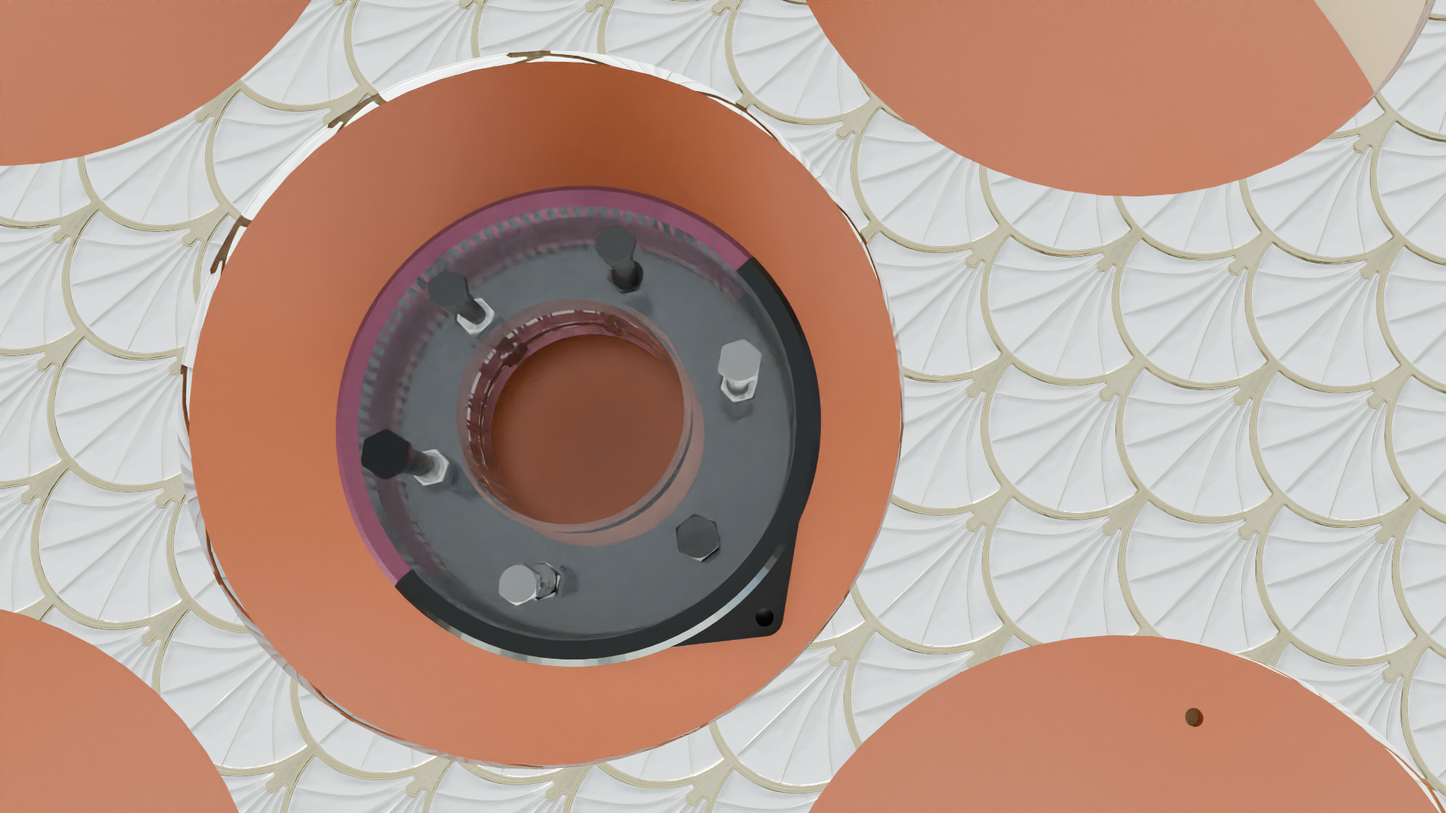bolt: (362, 428, 408, 479), (676, 513, 719, 561), (718, 339, 762, 384), (499, 562, 538, 605), (595, 224, 636, 263), (429, 269, 467, 309)
